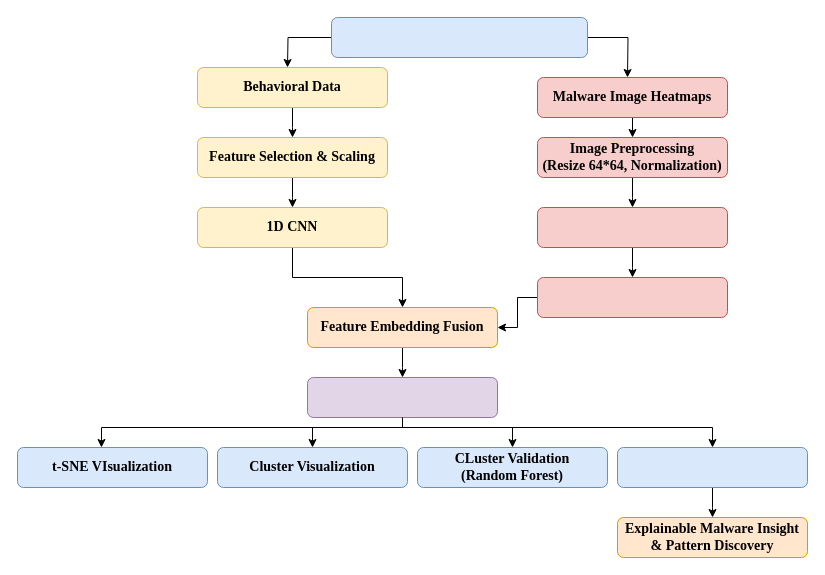
Image size: 825x575. Some labels were removed from this diagram. Each missing label, with the centre of its shape:
2D CNN (Residual Blocks): point (632, 227)
Behavioral Category Mapping: point (712, 467)
CCCS-CIC-AndMal2020 Dataset (400k Android Apps): point (459, 37)
Grad-CAM (Feature Maps): point (632, 297)
k-Means Clustering: point (402, 397)
